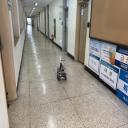cart: (57, 67, 67, 81)
